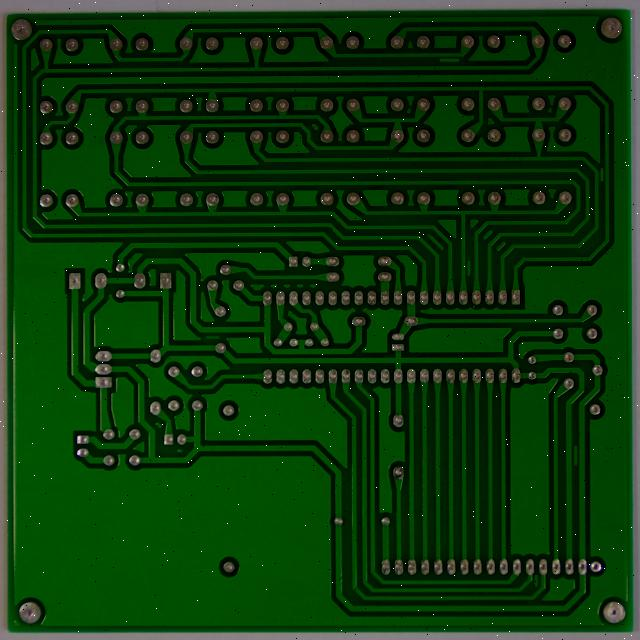spurious_copper: (451, 33, 479, 48), (478, 244, 492, 268), (589, 437, 600, 463), (208, 321, 230, 334), (618, 147, 627, 170)
